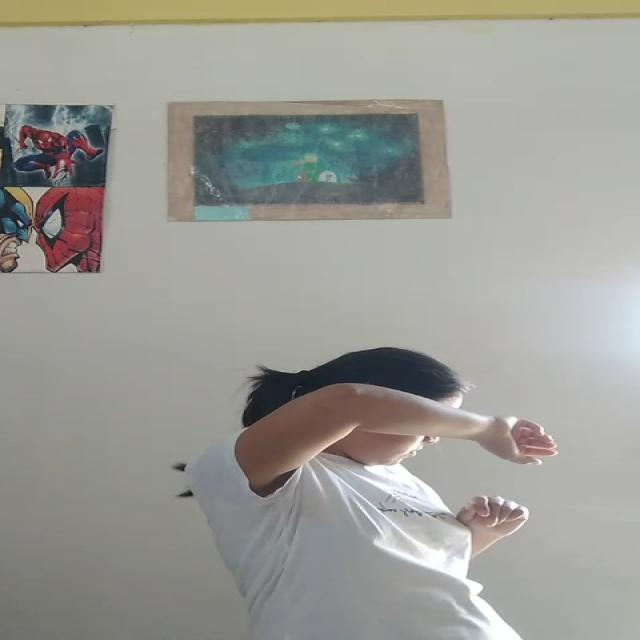7_mano_rostro: (238, 382, 554, 460)
